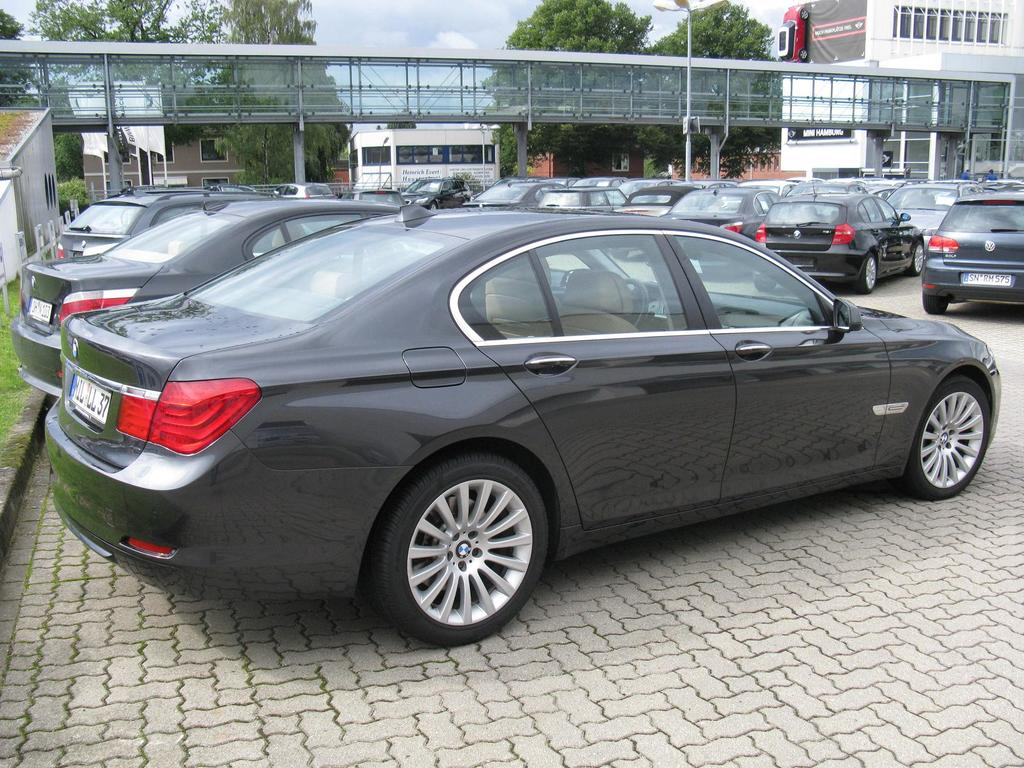Car: (10, 172, 1023, 648)
